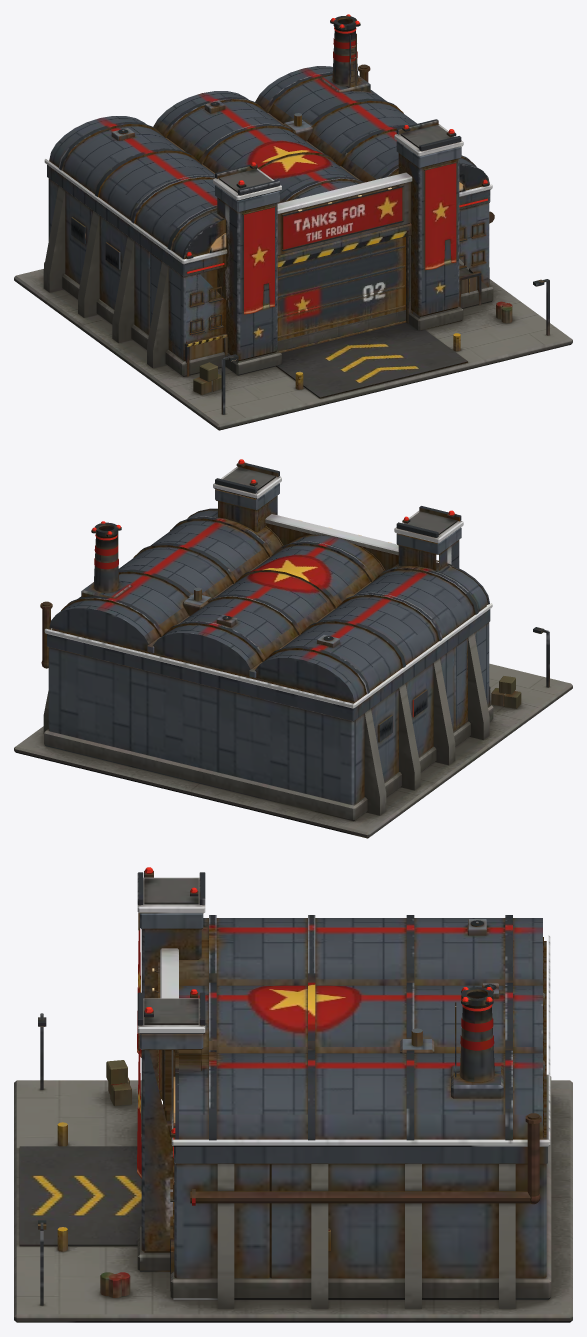
Rendered from weap.soviet.glb.
3 views of the same model, one above another, from view 1: azimuth 30°, elevation 25°; view 2: azimuth 150°, elevation 25°; view 3: azimuth 270°, elevation 25° (orthographic). The views are drawn at different scales.
Parts seen in each view (by area): view 1: root_mesh, door_mesh; view 2: root_mesh; view 3: root_mesh.
Boxes of the visible parts, x1=… form: root_mesh: x1=14, y1=14, x2=572, y2=430; door_mesh: x1=277, y1=237, x2=406, y2=352; root_mesh: x1=14, y1=459, x2=572, y2=838; root_mesh: x1=14, y1=867, x2=572, y2=1322.
Bounding box in the file's own units: 2.98 × 1.72 × 2.98.
2 materials, 1 textured.
